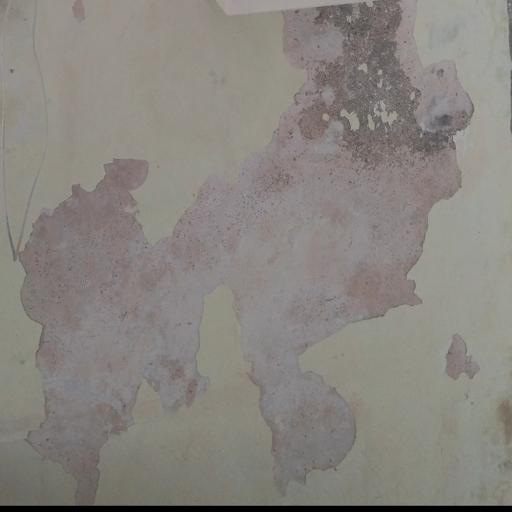peeling: (12, 0, 493, 511)
